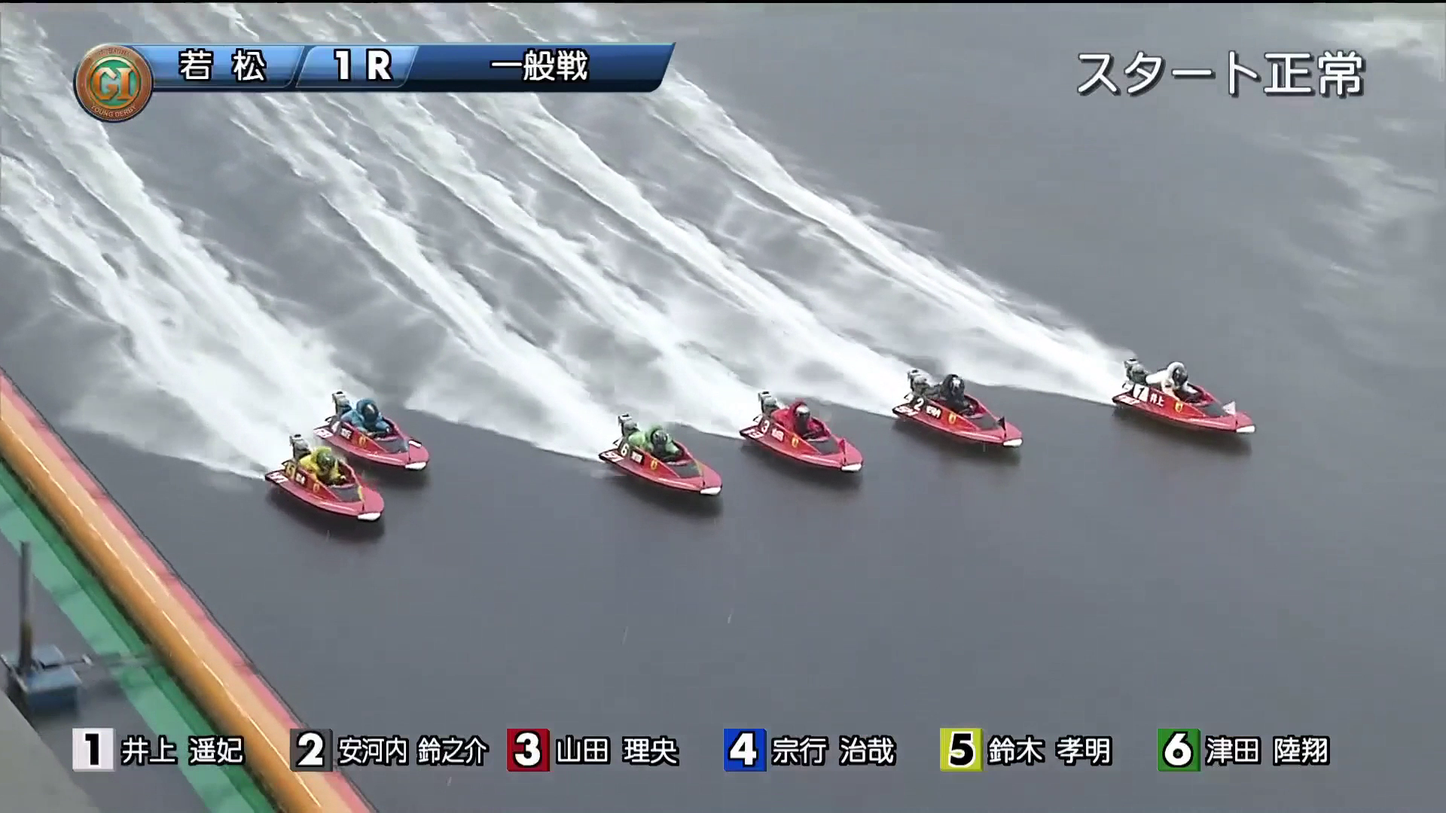１号艇: (1123, 360, 1244, 409)
２号艇: (904, 375, 1020, 428)
３号艇: (759, 425, 883, 467)
４号艇: (624, 445, 739, 503)
５号艇: (336, 420, 459, 475)
６号艇: (315, 493, 415, 550)
